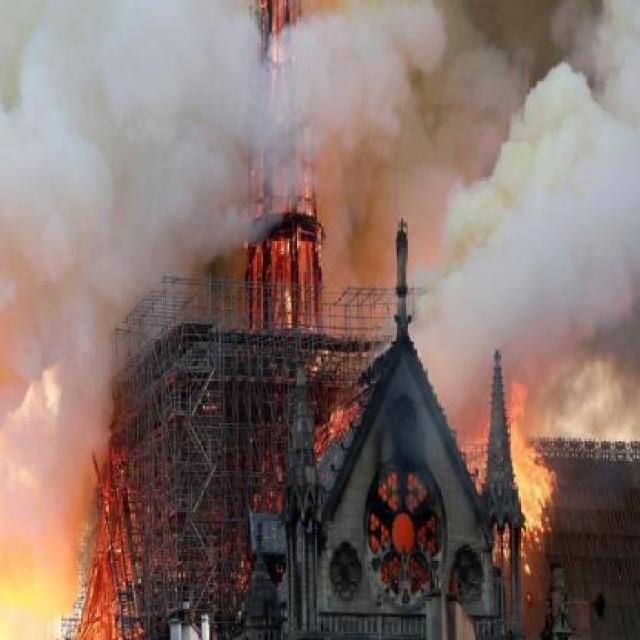Fire: (446, 360, 566, 604), (248, 6, 332, 334), (16, 443, 136, 640)
Smoke: (0, 0, 640, 344), (0, 273, 110, 556), (550, 358, 631, 434)
